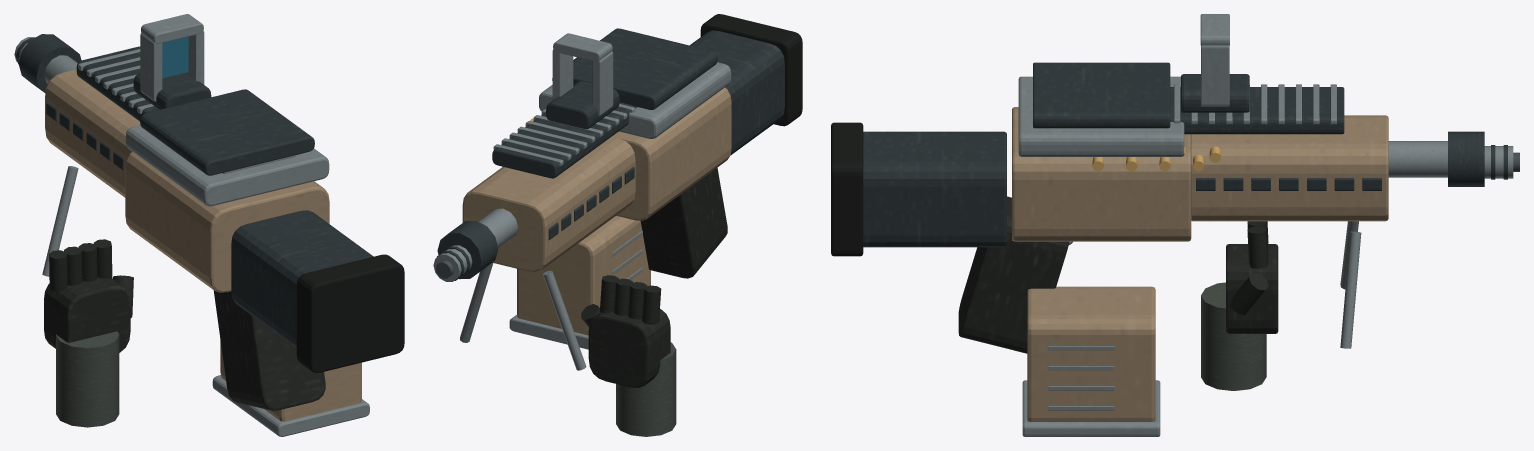
File: lmg.glb
3 renders of one model, left to right at view 1: azimuth 30°, elevation 25°; view 2: azimuth 150°, elevation 25°; view 3: azimuth 270°, elevation 25°, orthographic. The views are drawn at different scales.
Parts seen in each view (by area): view 1: first-person-lmg; view 2: first-person-lmg; view 3: first-person-lmg.
Boxes of the visible parts, x1,y1,x2,y2 form: first-person-lmg: (14,14,404,436); first-person-lmg: (433,14,802,436); first-person-lmg: (831,14,1519,436).
Size of the model in its own units: 0.7423 by 1.29 by 2.06.
9 materials, 6 textured.
